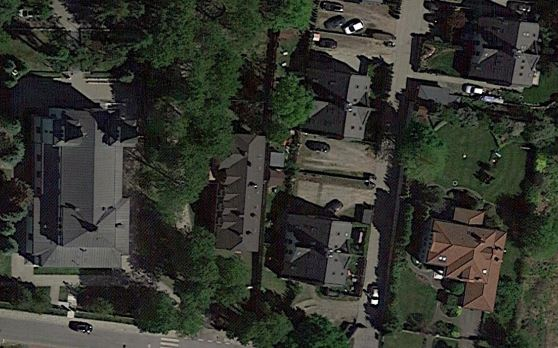block of flats: (210, 127, 266, 256)
church: (16, 99, 140, 275)
family house: (415, 200, 513, 315)
terrace house: (275, 209, 359, 288), (295, 65, 379, 144), (462, 11, 546, 90)
